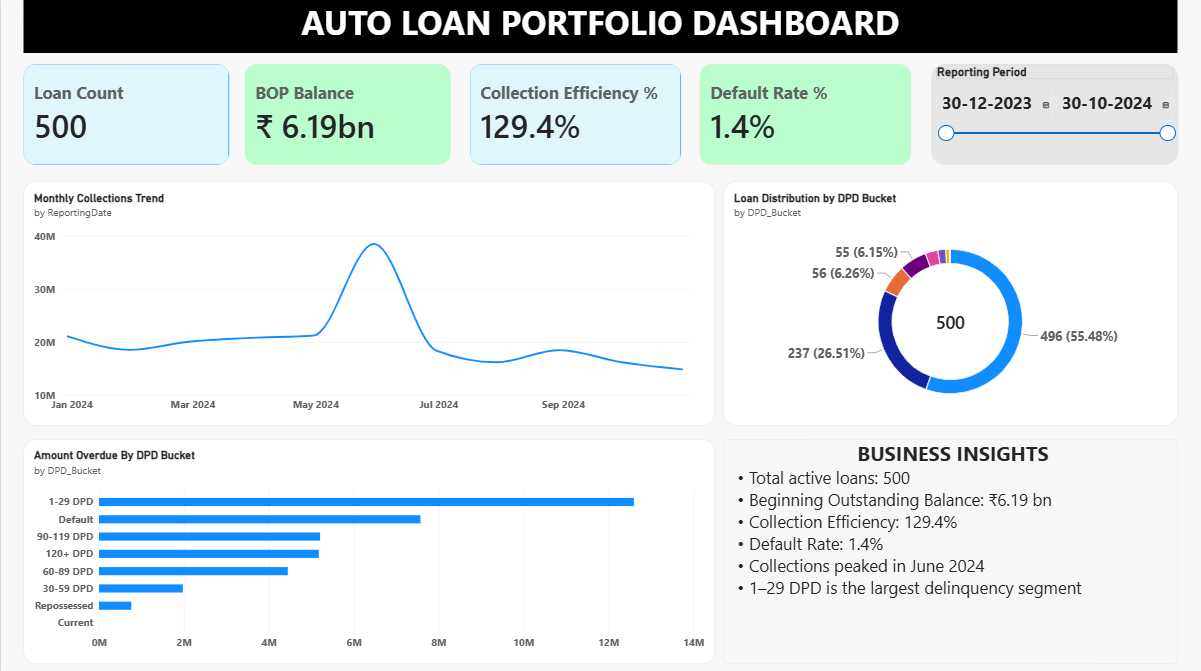

Layout of this report page (visuals, bound fields, positions):
{"tool":"powerbi","page":{"name":"Page 1","canvas":[1920,1080],"ordinal":0},"visuals":[{"type":"cardVisual","fields":{"Data":["Count(auto_loan_securitisation_data.LoanID)"]},"box":[36.8,104.9,329.4,162],"z":0},{"type":"cardVisual","fields":{"Data":["Sum(dynamic_loss_monthly.BOP_Balance)"]},"box":[390.2,104.9,329.4,162],"z":1000},{"type":"lineChart","fields":{"Category":["dynamic_loss_monthly.ReportingDate"],"Y":["Sum(dynamic_loss_monthly.CollectionsTotal)"]},"box":[36,292,1106,390],"z":2000},{"type":"donutChart","fields":{"Category":["dpd_snapshot_history.DPD_Bucket"],"Y":["Count(dpd_snapshot_history.LoanID)"]},"box":[1156,292,726,390],"z":3000},{"type":"clusteredBarChart","fields":{"Category":["dpd_snapshot_history.DPD_Bucket"],"Y":["Sum(dpd_snapshot_history.AmountOverdue)"]},"box":[36,704,1106,360],"z":4000},{"type":"slicer","fields":{"Values":["dynamic_loss_monthly.ReportingDate"]},"box":[1487.1,104.9,395.7,162],"z":5000},{"type":"textbox","box":[36,0,1846,86],"z":6000},{"type":"textbox","box":[1156,704,726,360],"z":7000},{"type":"cardVisual","fields":{"Data":["auto_loan_securitisation_data.Collection Efficiency %"]},"box":[750.9,104.9,338.7,162],"z":7001},{"type":"cardVisual","fields":{"Data":["auto_loan_securitisation_data.Default Rate %"]},"box":[1117.2,104.9,338.7,162],"z":7002}]}

Visuals, with their boxes in screenshot pixels (x1, y1, x2, y2), scaled from the page's 1920x1080 canvas onto the 1201x671 screenshot:
cardVisual - Count(auto_loan_securitisation_data.LoanID): box(23, 65, 229, 166)
cardVisual - Sum(dynamic_loss_monthly.BOP_Balance): box(244, 65, 450, 166)
lineChart - dynamic_loss_monthly.ReportingDate x Sum(dynamic_loss_monthly.CollectionsTotal): box(23, 181, 714, 424)
donutChart - dpd_snapshot_history.DPD_Bucket x Count(dpd_snapshot_history.LoanID): box(723, 181, 1177, 424)
clusteredBarChart - dpd_snapshot_history.DPD_Bucket x Sum(dpd_snapshot_history.AmountOverdue): box(23, 437, 714, 661)
slicer - dynamic_loss_monthly.ReportingDate: box(930, 65, 1178, 166)
textbox: box(23, 0, 1177, 53)
textbox: box(723, 437, 1177, 661)
cardVisual - auto_loan_securitisation_data.Collection Efficiency %: box(470, 65, 682, 166)
cardVisual - auto_loan_securitisation_data.Default Rate %: box(699, 65, 911, 166)
